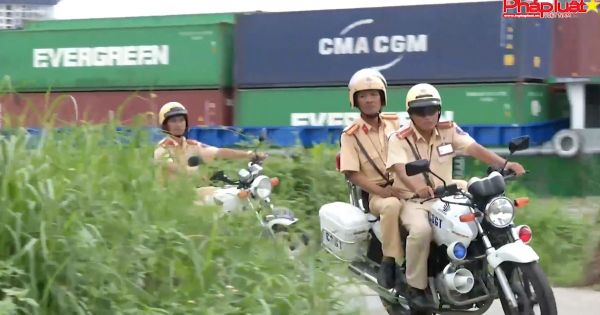police: (322, 66, 534, 315)
